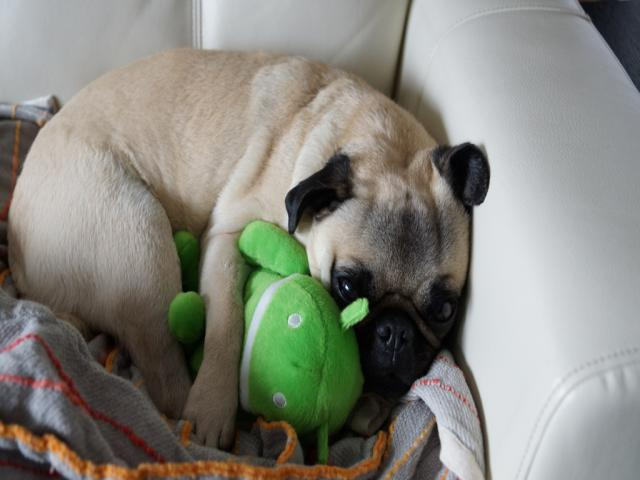Dog: (5, 45, 488, 454)
